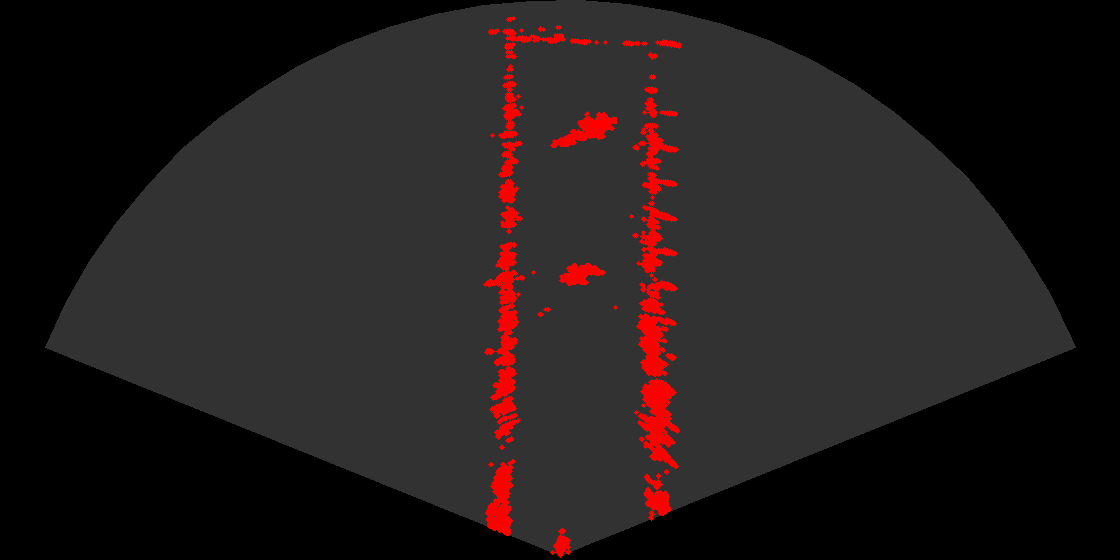AUV: (553, 261, 609, 293)
frogman: (549, 105, 617, 152)
